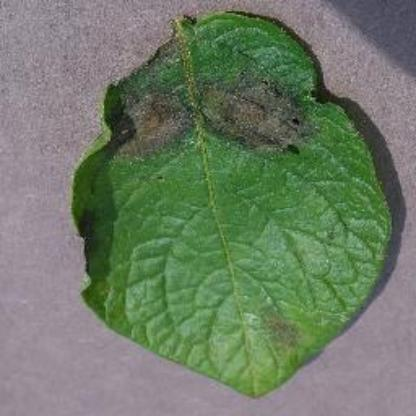Late-Blight: (9, 8, 401, 402)
